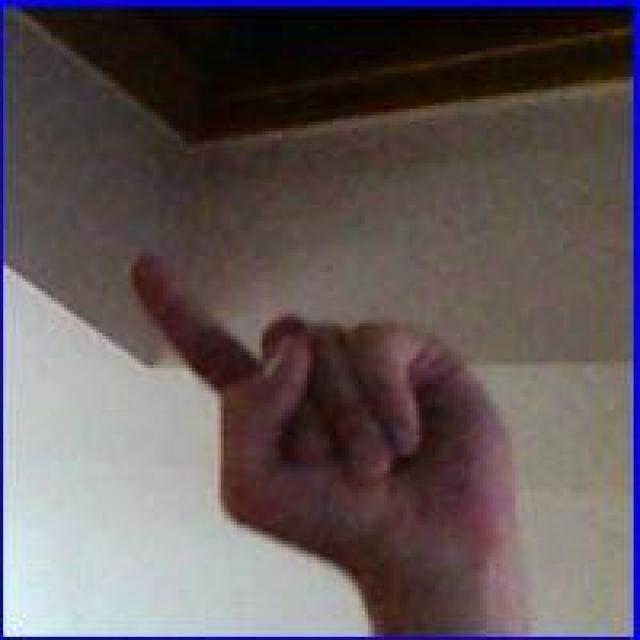Z: (107, 252, 507, 558)
